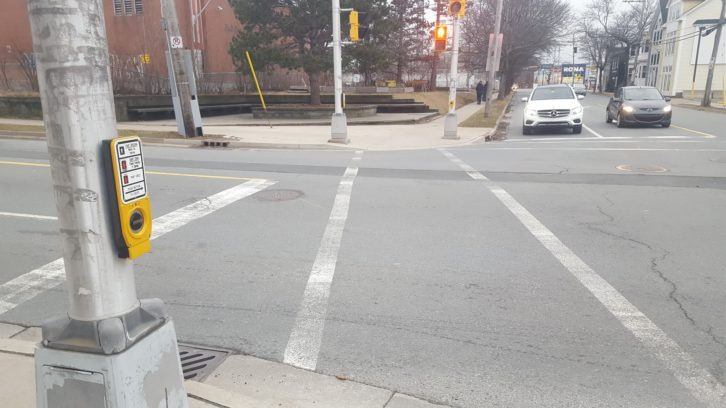pedestrian_stop: (434, 24, 447, 48)
